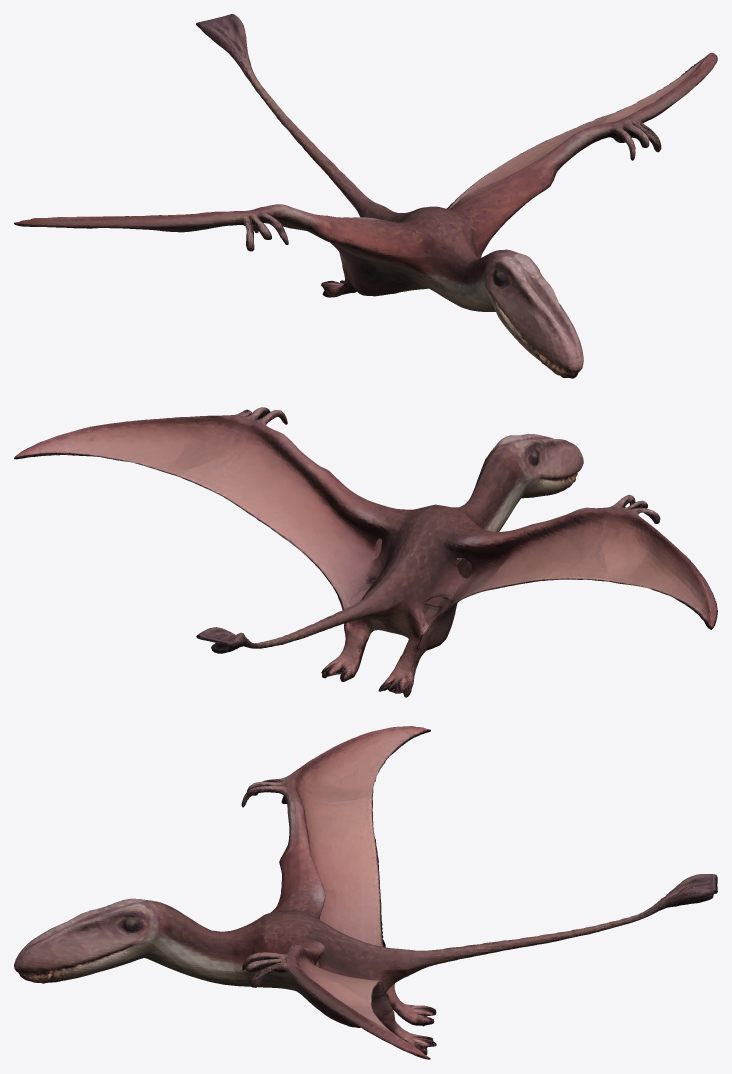
The picture shows the model from 3 angles, top to bottom: view 1: azimuth 30°, elevation 25°; view 2: azimuth 150°, elevation 25°; view 3: azimuth 270°, elevation 25°; orthographic projection. The views are drawn at different scales.
Visible parts, largest first — view 1: world; view 2: world; view 3: world.
Part boxes in pixels (x1=…): world: x1=14, y1=14, x2=717, y2=378; world: x1=14, y1=407, x2=717, y2=697; world: x1=14, y1=726, x2=717, y2=1059.
Size of the model in its own units: 0.9 by 0.2129 by 0.8129.
Materials: 1 (1 with a texture image).
